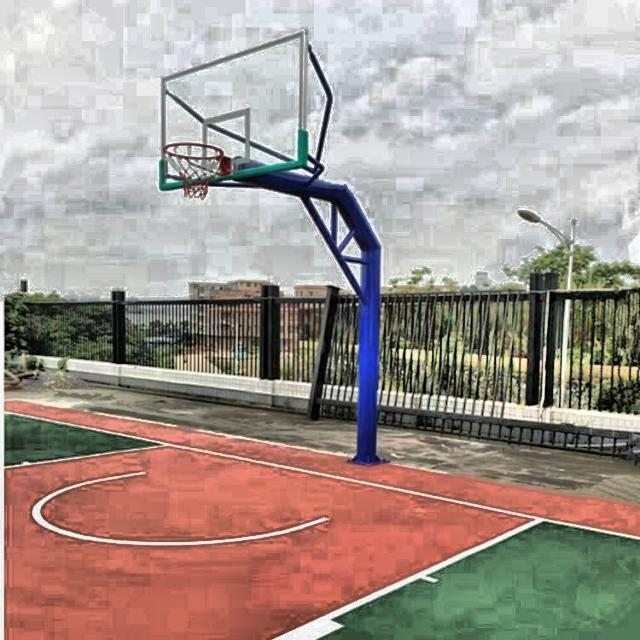rim: (160, 141, 226, 201)
